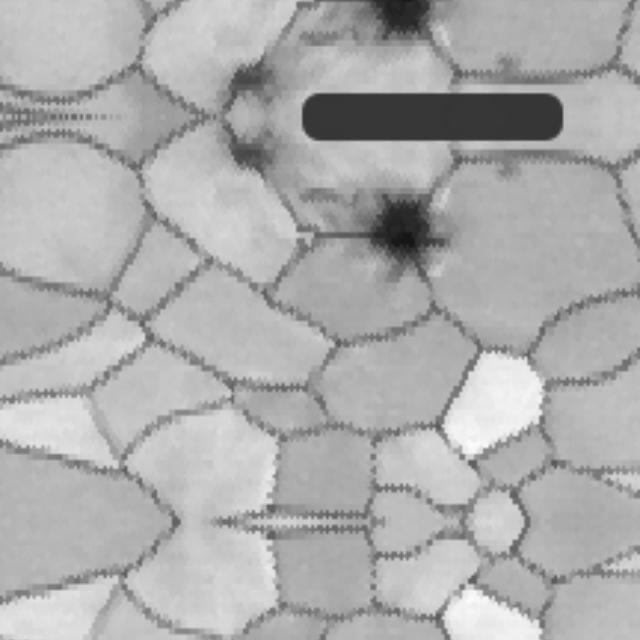good_void: (365, 197, 438, 282), (365, 0, 438, 38), (233, 57, 282, 98), (233, 137, 282, 177), (488, 157, 538, 193), (488, 41, 538, 77)
